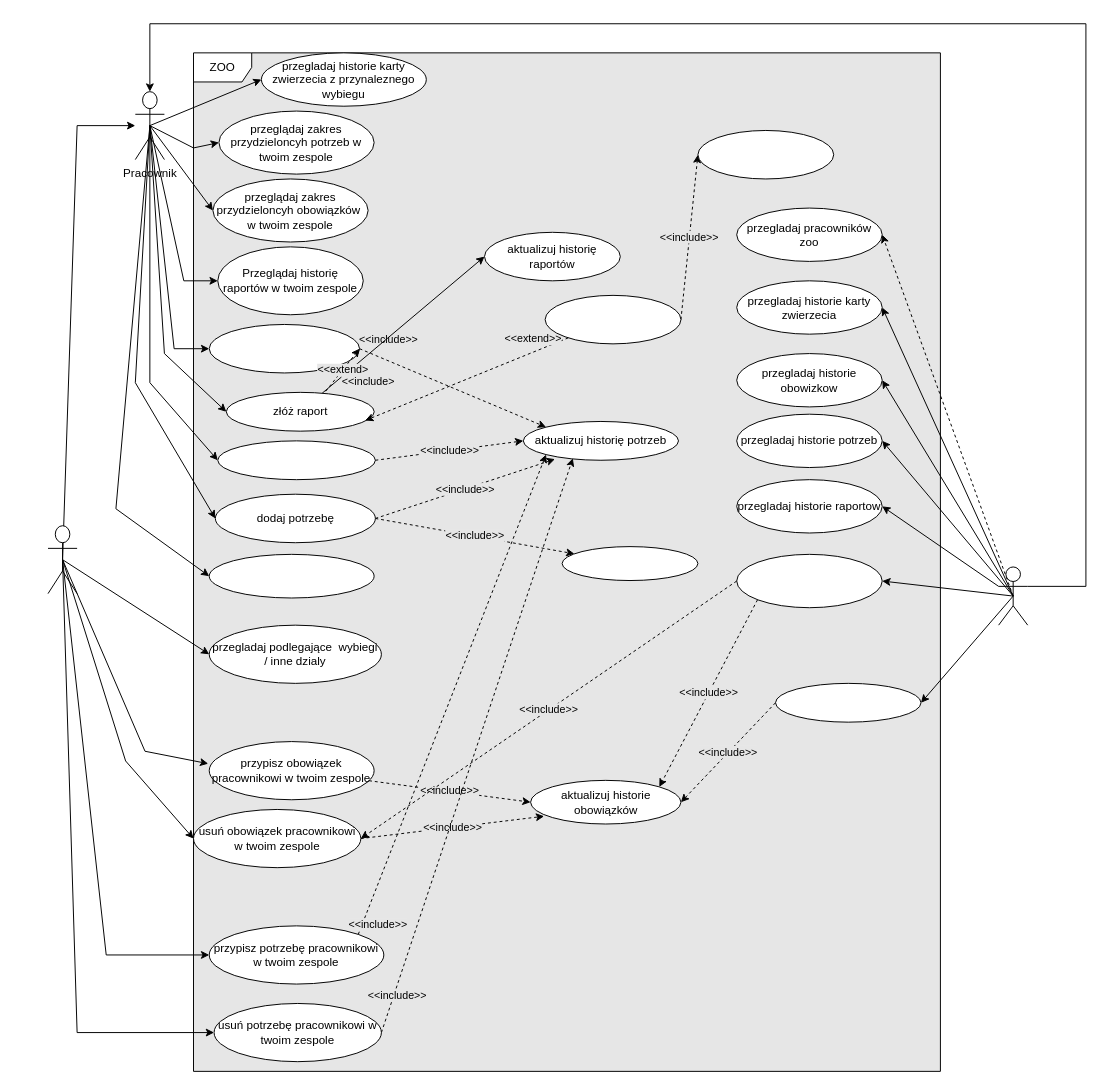
This 1111x1088 diagram has some shape labels left out. Each missing label, with the centre of its shape:
aktualizuj historię karty konkretnego zwierzęcia: the point at 765,154
aktualizuj kartę konkretnego zwierzęcia: the point at 612,319
dodaj obowiązek do wybiegu: the point at 848,702
kierownik zespołu: the point at 62,559
koordynator: the point at 1013,595
oznacz wybieg/dział: the point at 629,563
przeglądaj czlonkow zespolu: the point at 291,575
usun obowiazek w wybiegu/dziale: the point at 809,580
usuń potrzebę: the point at 296,460
zgłoś wykonanie potrzeby: the point at 284,348
